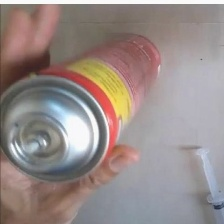aerosol_cans: (0, 26, 167, 188)
